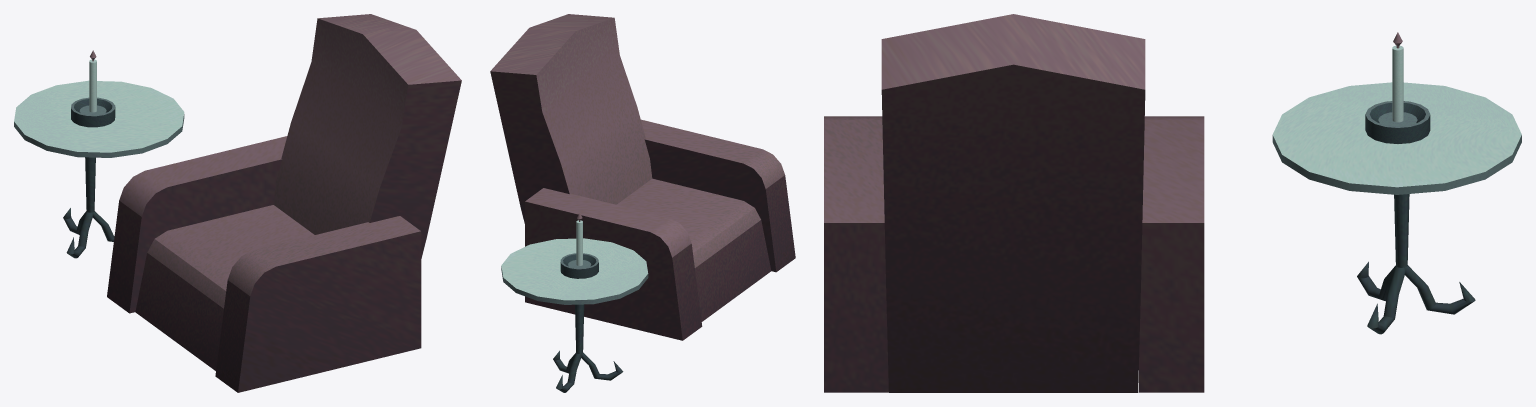
The model's file is ChairSet.fbx.
3 views of the same model, side by side, from view 1: azimuth 30°, elevation 25°; view 2: azimuth 150°, elevation 25°; view 3: azimuth 270°, elevation 25° (orthographic). The views are drawn at different scales.
Visible parts, largest first — view 1: Cube.002, Cylinder.005, Cylinder.004; view 2: Cube.002, Cylinder.005, Cylinder.004; view 3: Cube.002, Cylinder.005, Cylinder.004.
Part boxes in pixels (box(x1,y1,x2,y2)): Cube.002: box(107, 14, 461, 392); Cylinder.005: box(14, 80, 184, 258); Cylinder.004: box(71, 50, 115, 127); Cube.002: box(490, 14, 795, 340); Cylinder.005: box(501, 238, 648, 392); Cylinder.004: box(560, 212, 598, 278); Cube.002: box(824, 14, 1204, 392); Cylinder.005: box(1272, 82, 1521, 334); Cylinder.004: box(1365, 32, 1430, 143).
Size of the model in its own units: 349 by 352 by 560.
